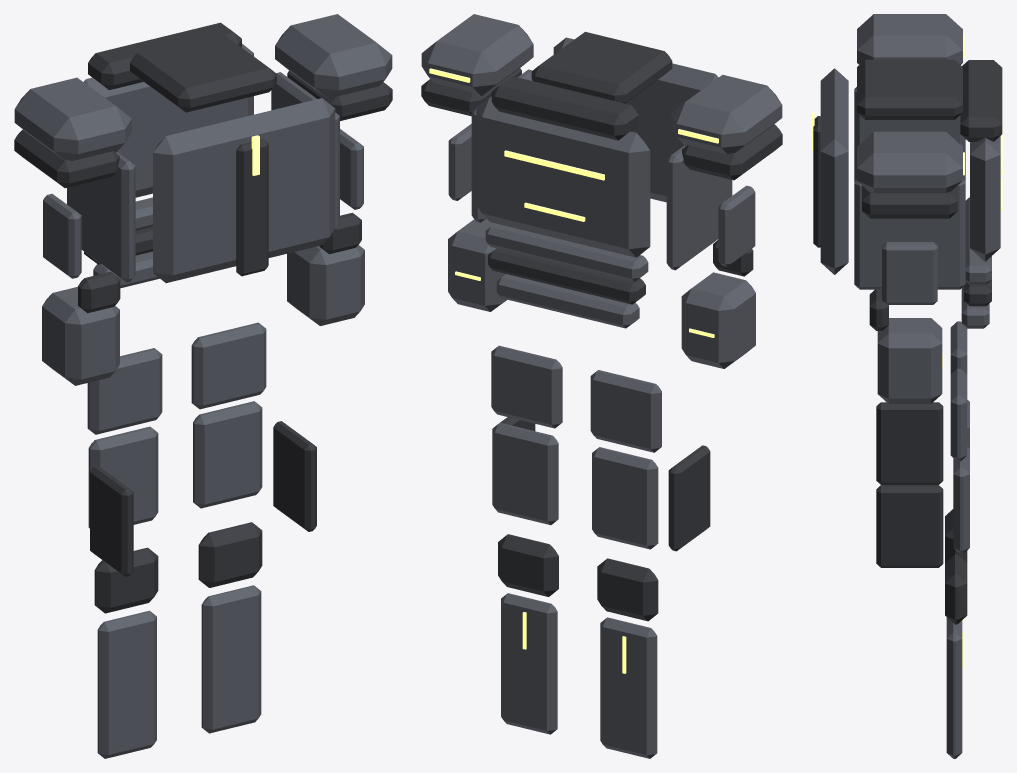
File: oblek.glb
The picture shows the model from 3 angles, left to right: view 1: azimuth 30°, elevation 25°; view 2: azimuth 150°, elevation 25°; view 3: azimuth 270°, elevation 25°; orthographic projection. The views are drawn at different scales.
Visible parts, largest first — view 1: Gear_Suit; view 2: Gear_Suit; view 3: Gear_Suit.
Boxes of the visible parts, left/top/right/bottom form: Gear_Suit: left=14, top=14, right=392, bottom=758; Gear_Suit: left=421, top=14, right=782, bottom=758; Gear_Suit: left=811, top=14, right=1002, bottom=758.
Size of the model in its own units: 0.65 by 1.28 by 0.3435.
